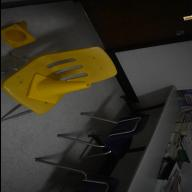cone: (26, 73, 90, 104), (0, 21, 36, 49)
